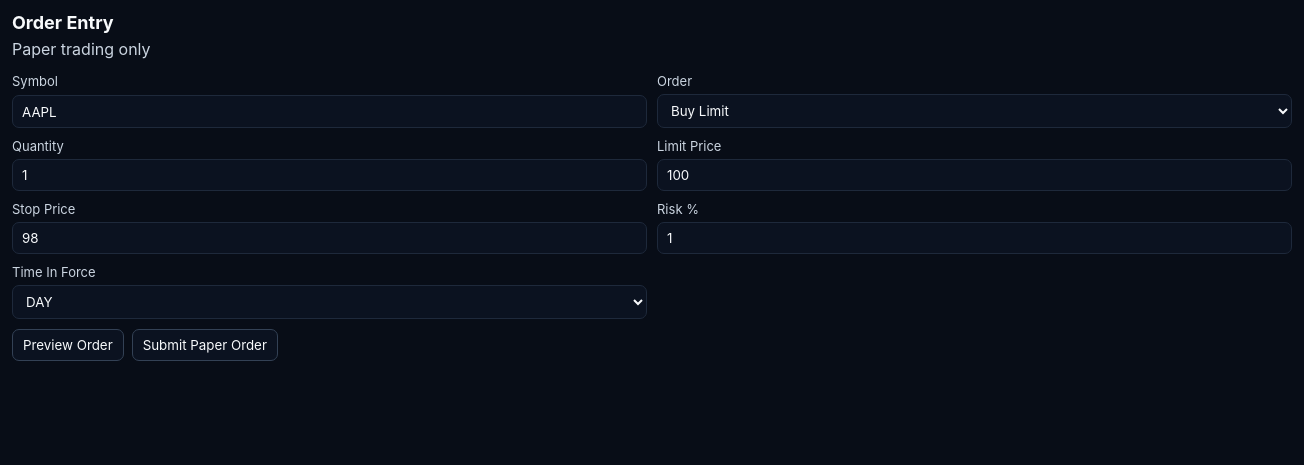
Test: Part 10D paper execution › validates an order before submit
Replace the text in the number field named "quantity" with "0": (330, 175) [12, 159, 647, 191]
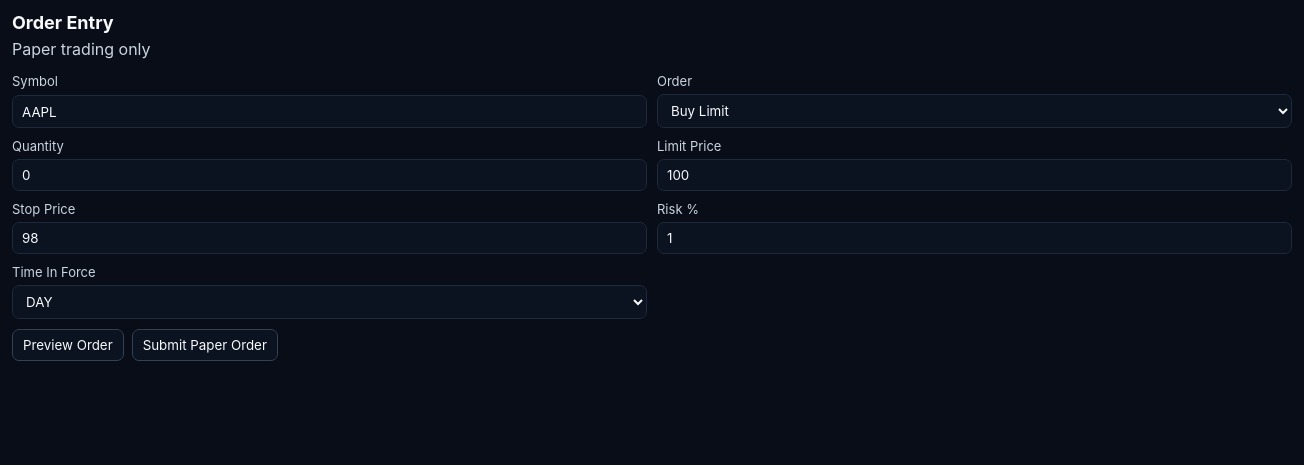
Submit the form
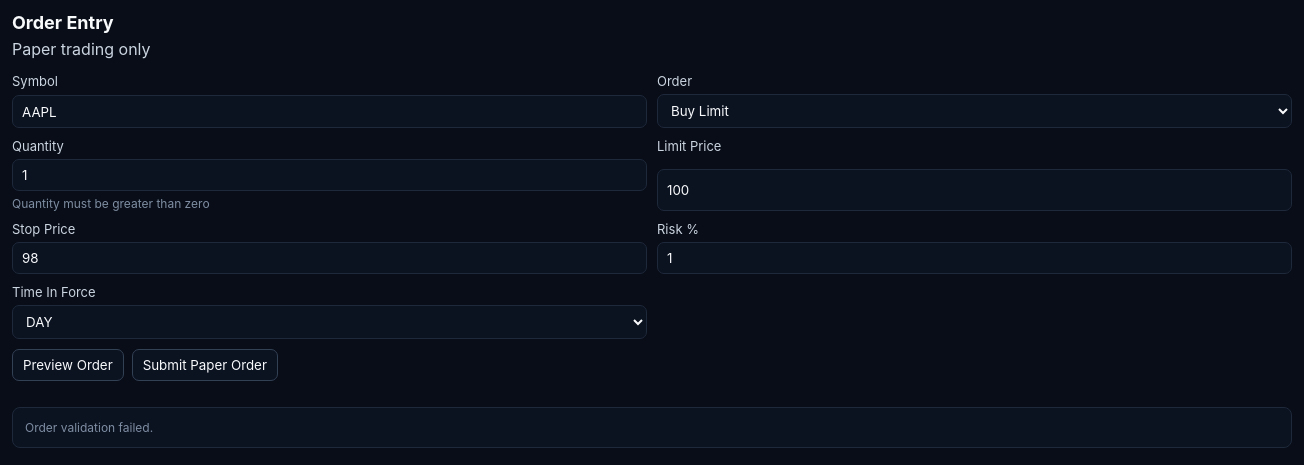
Now the text "Quantity must be greater than zero" is shown, box [12, 196, 210, 211]
Now the text "Order validation failed" is shown, box [25, 420, 153, 435]
